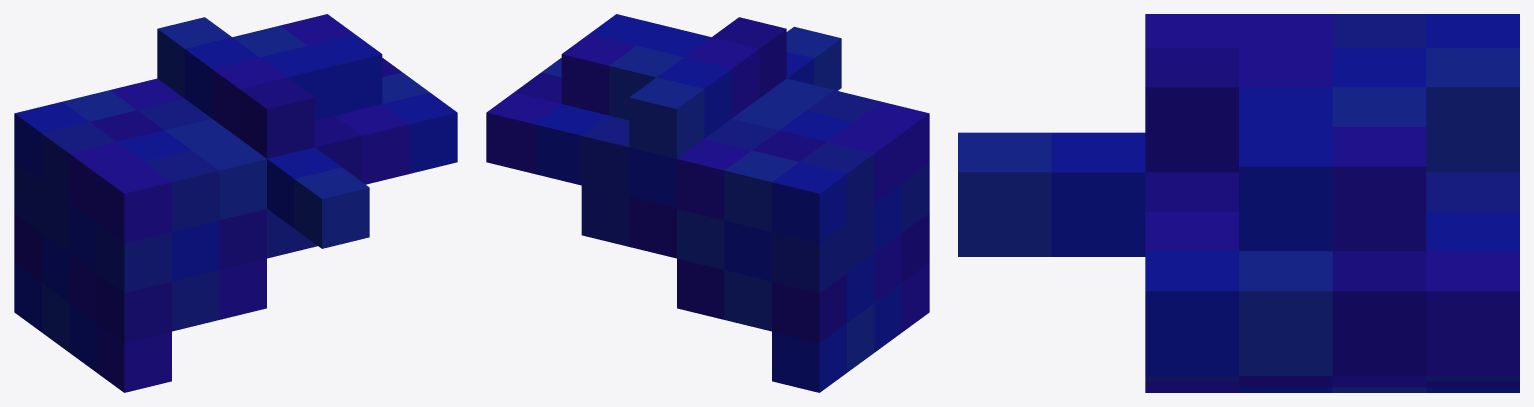
The model's file is FurroHandR.fbx.
The picture shows the model from 3 angles, left to right: view 1: azimuth 30°, elevation 25°; view 2: azimuth 150°, elevation 25°; view 3: azimuth 270°, elevation 25°; orthographic projection. The views are drawn at different scales.
Parts seen in each view (by area): view 1: FurroHandR; view 2: FurroHandR; view 3: FurroHandR.
Boxes of the visible parts, <box> form: FurroHandR: <box>14,14,457,392</box>; FurroHandR: <box>486,14,929,392</box>; FurroHandR: <box>958,14,1519,392</box>.
Bounding box in the file's own units: 70 × 50 × 60.
